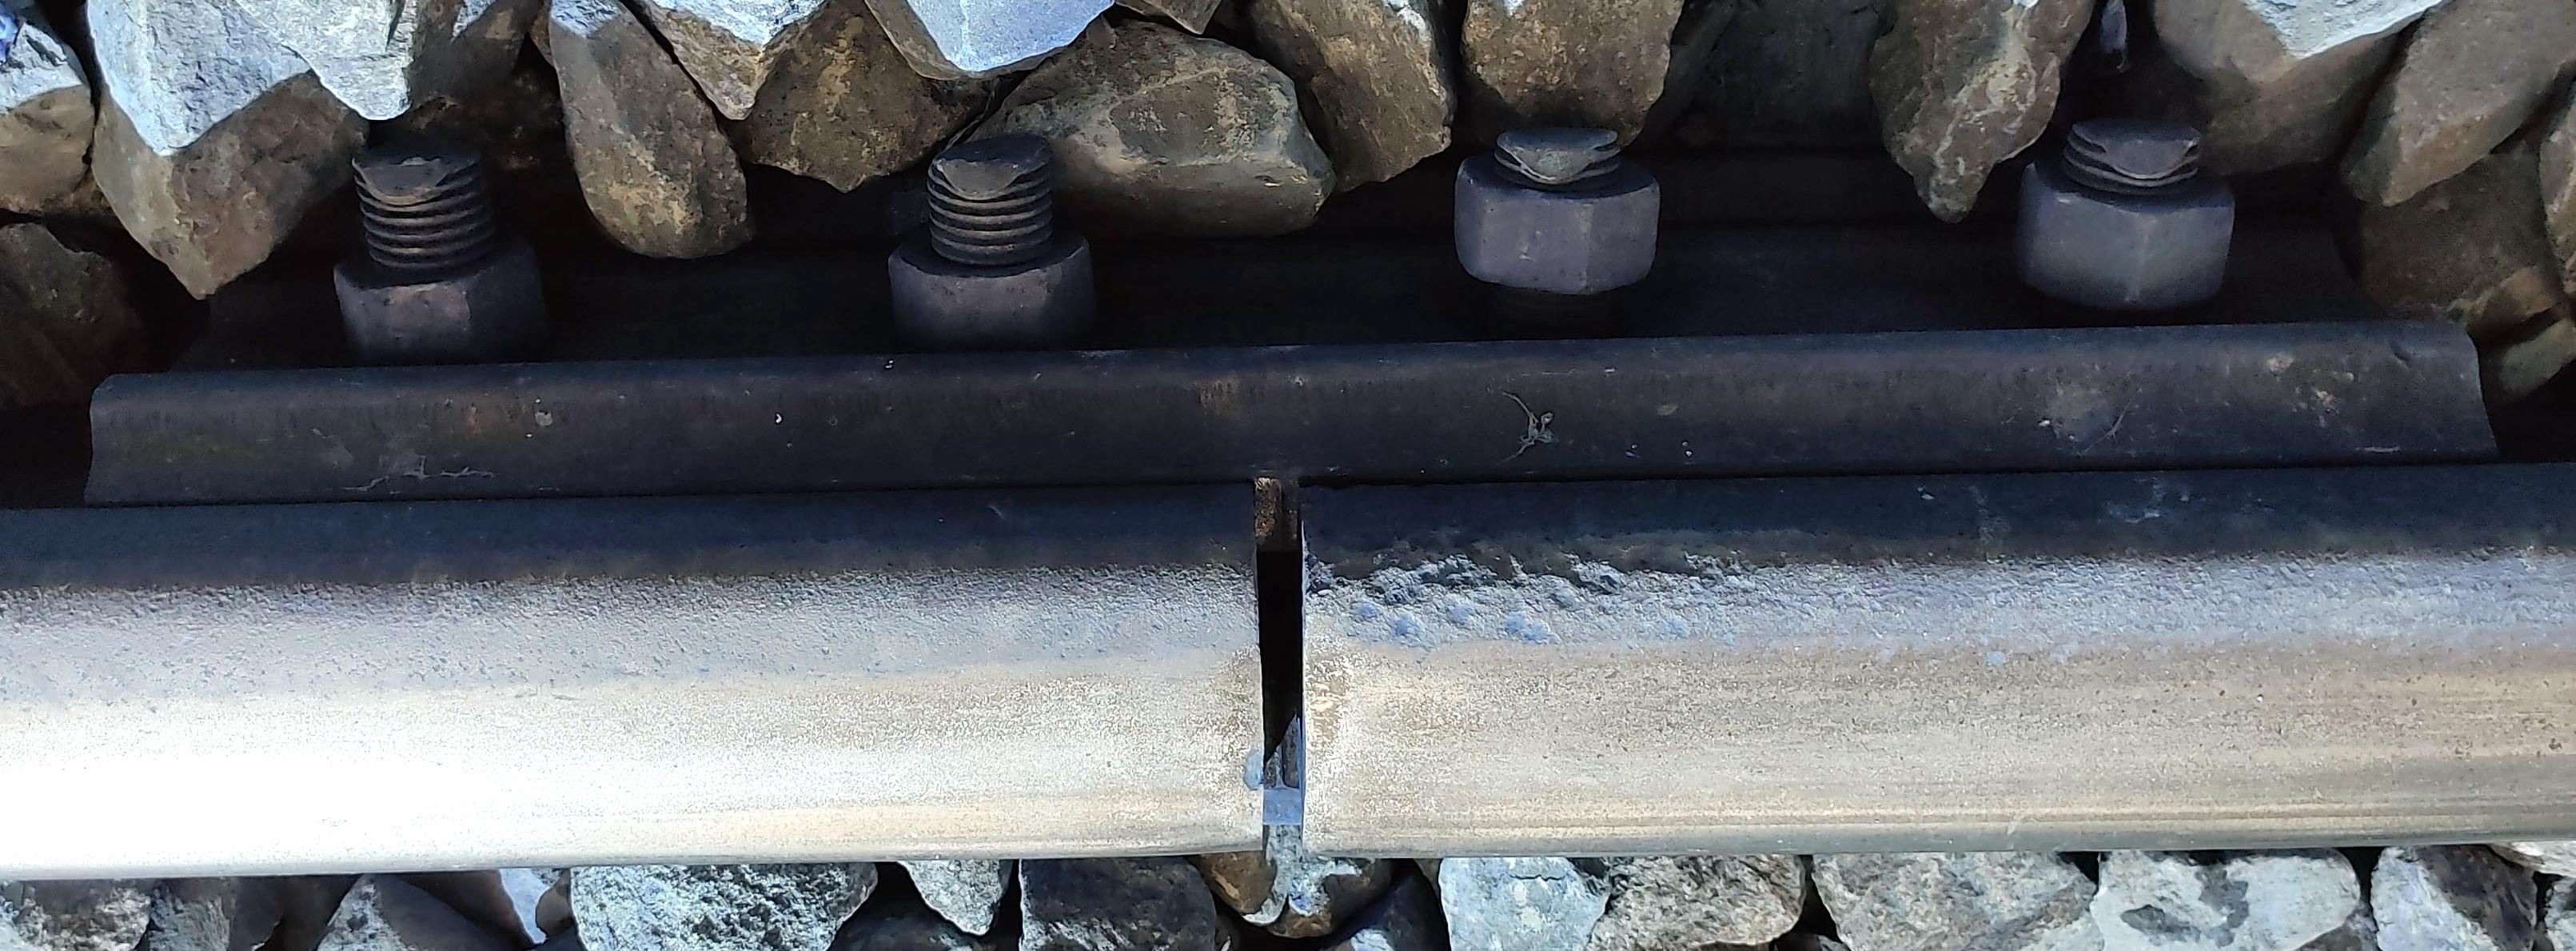error2: (1134, 455, 1451, 936)
